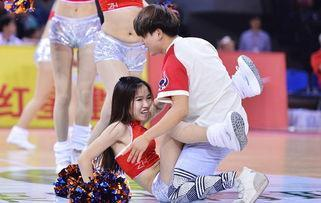Fall-Detected: (66, 71, 255, 199)
